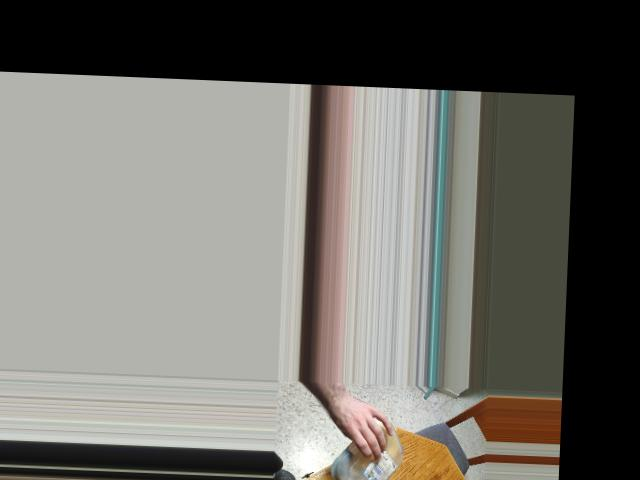cheese: (330, 409, 407, 480)
